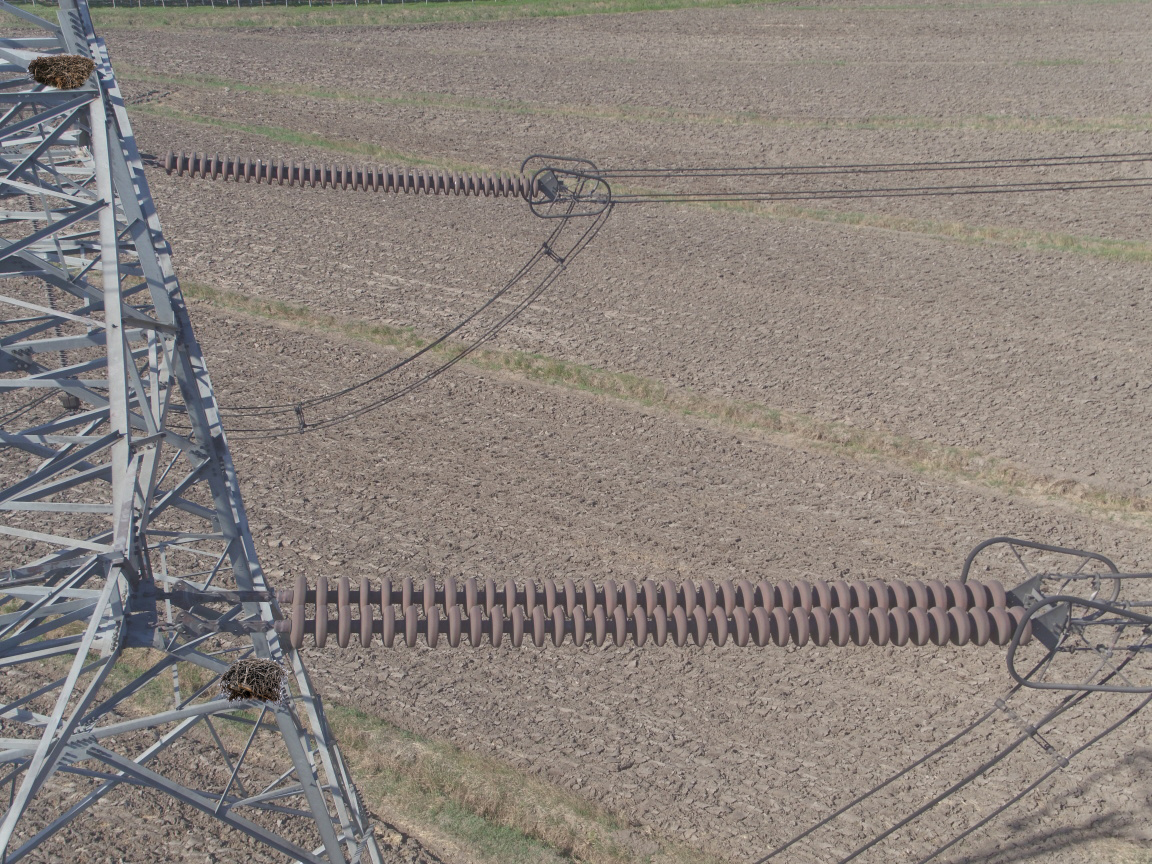nest: (213, 657, 289, 708), (26, 51, 95, 89)
